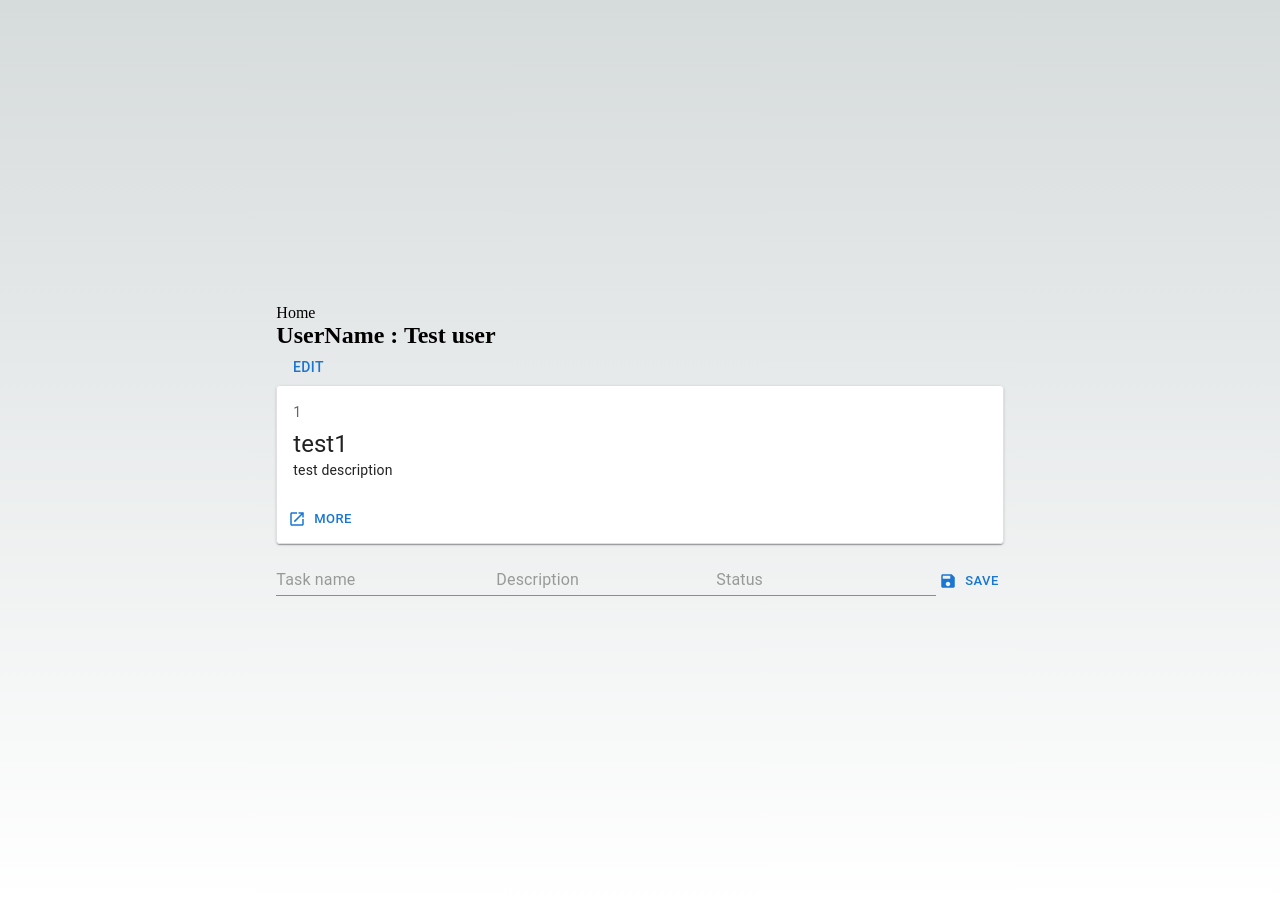
Test: Tasks › Test new save
In the field with placeholder "Task name": (386, 580) x1=276 y1=564 x2=496 y2=596, type "new task"
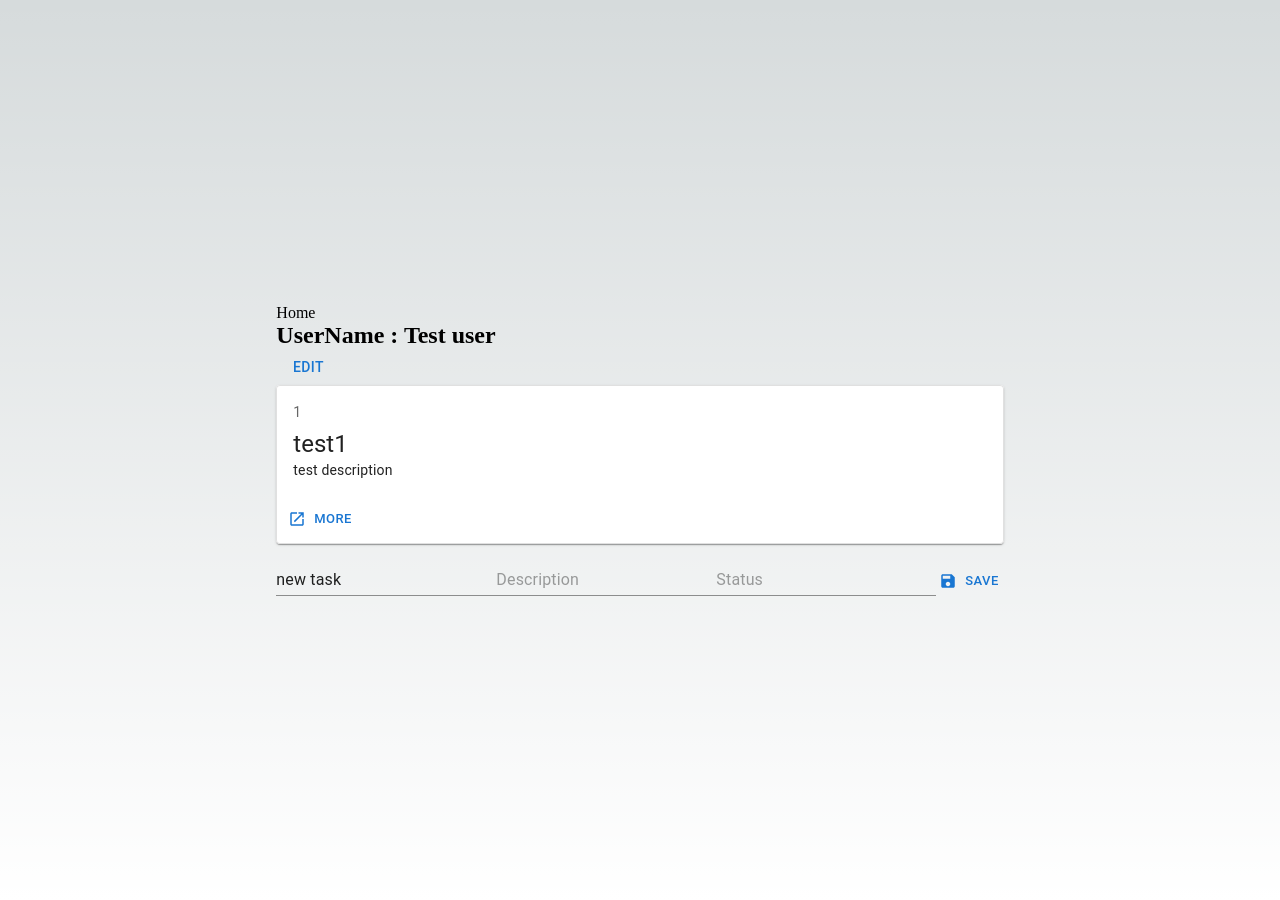
In the field with placeholder "Description": (606, 580) x1=496 y1=564 x2=716 y2=596, type "new task description"
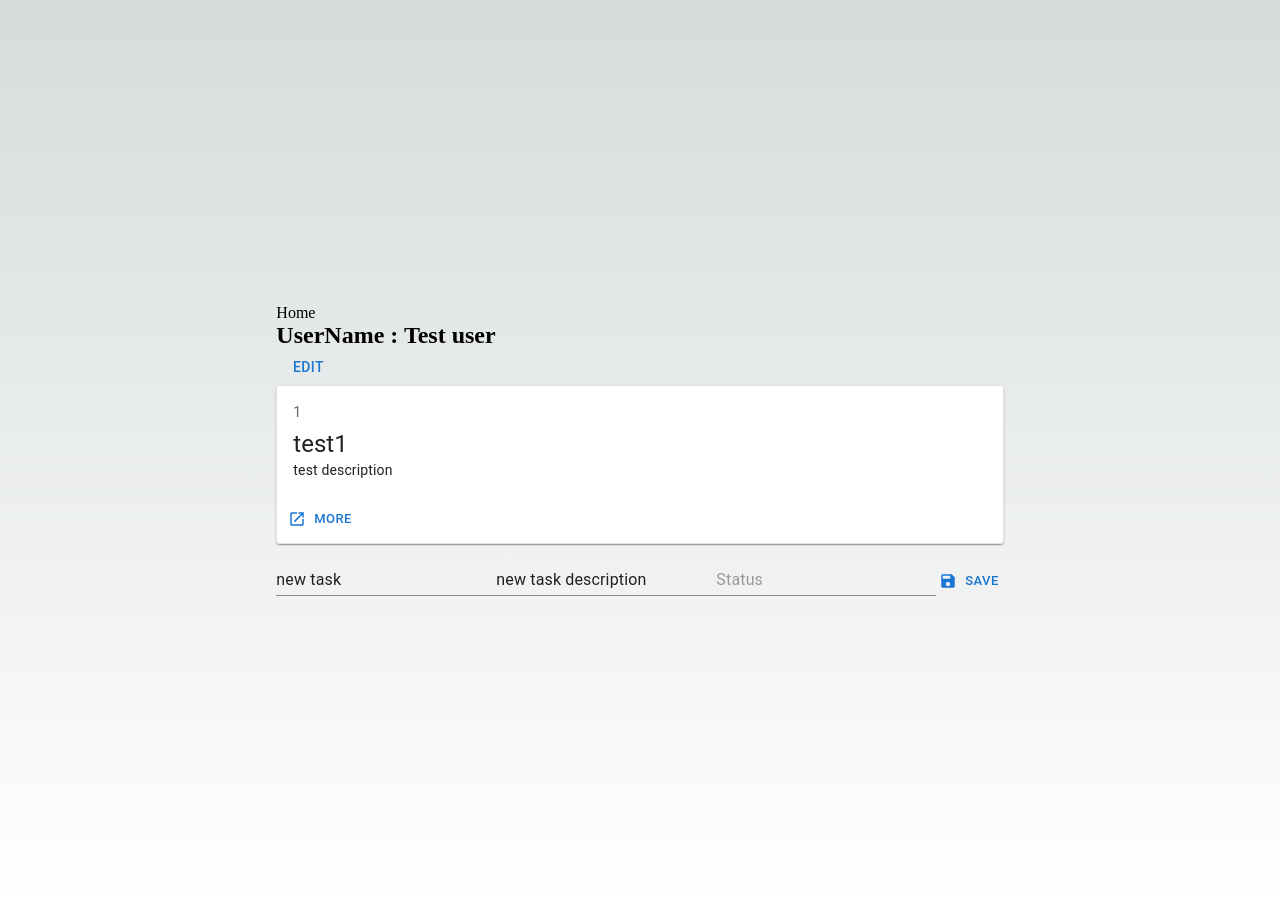
In the field with placeholder "Status": (826, 580) x1=716 y1=564 x2=936 y2=596, type "complete"
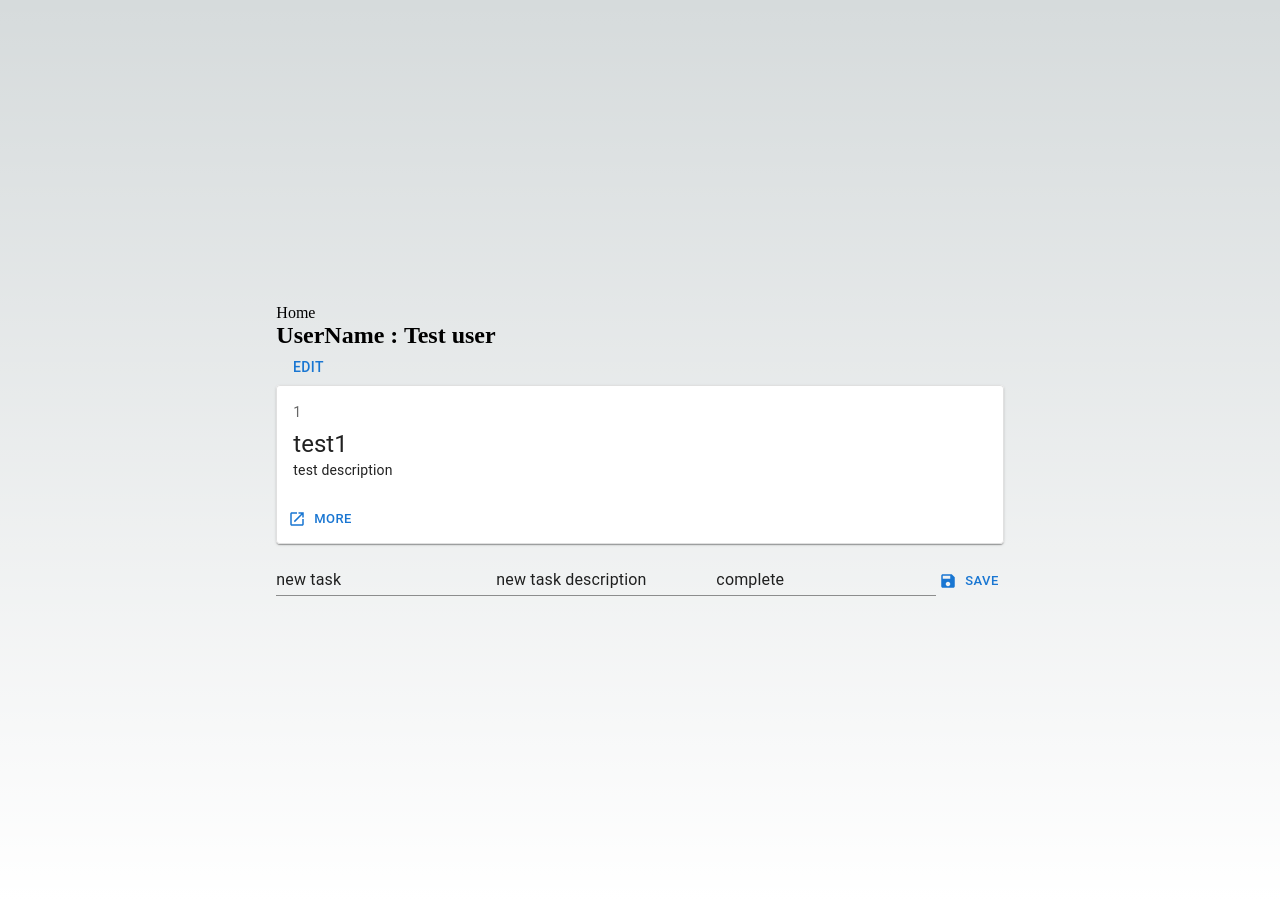
Click the button with test id "task-form-save-button": (970, 581) x1=936 y1=566 x2=1004 y2=596
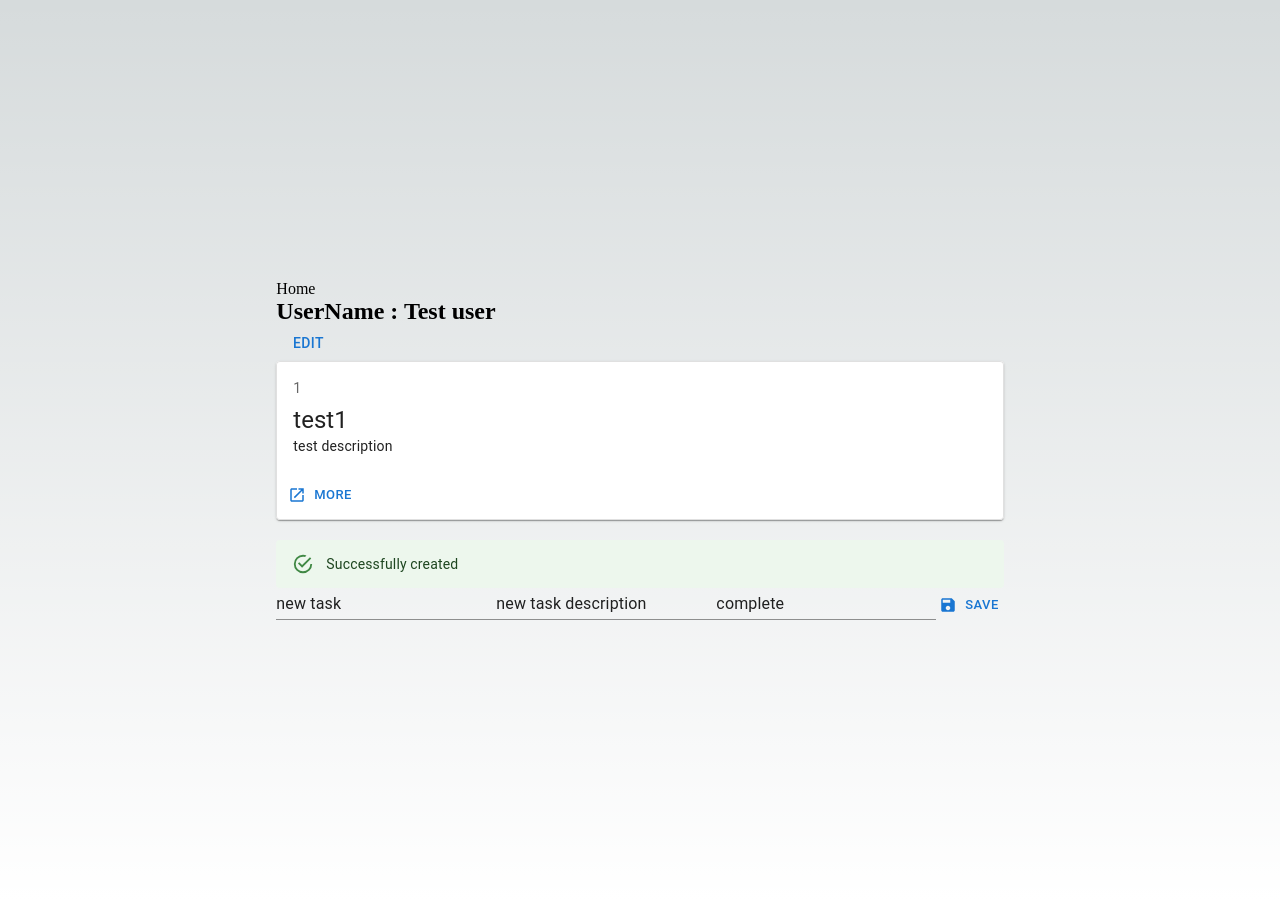
Check: the message "Successfully created" is shown, box x1=276 y1=540 x2=1004 y2=588
